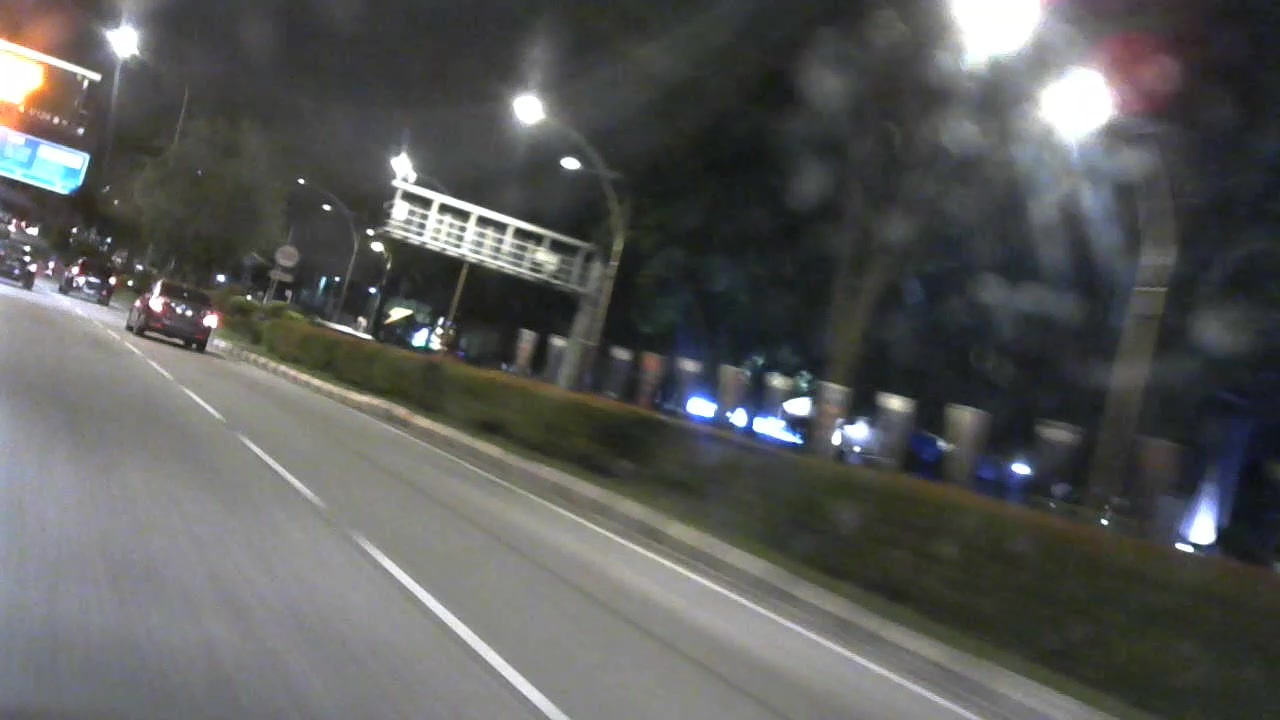Car: (129, 277, 218, 355), (62, 248, 122, 306), (1, 237, 42, 294)
